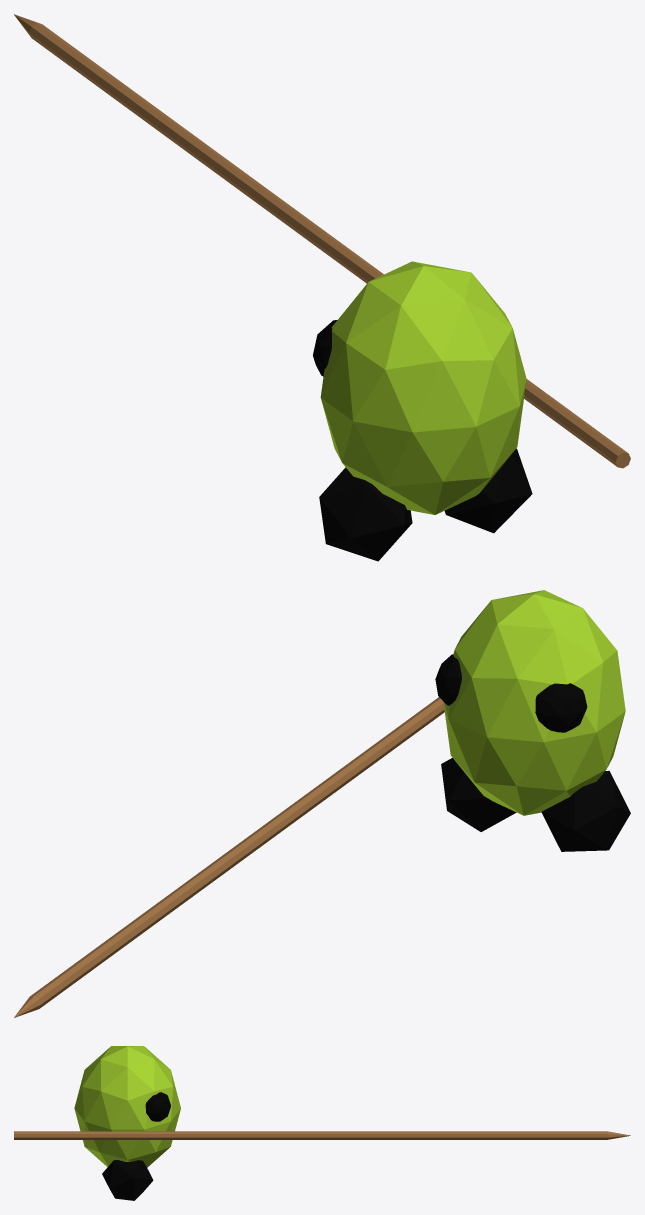
File: stab.f0011.glb
3 views of the same model, one above another, from view 1: azimuth 30°, elevation 25°; view 2: azimuth 150°, elevation 25°; view 3: azimuth 270°, elevation 25° (orthographic). The views are drawn at different scales.
Visible parts, largest first — view 1: Body.001; view 2: Body.001; view 3: Body.001.
Boxes of the visible parts, box(x1,y1,x2,y2) form: Body.001: box(14, 14, 630, 561); Body.001: box(14, 590, 630, 1017); Body.001: box(14, 1046, 630, 1200).
Size of the model in its own units: 2.17 by 2.85 by 11.56.
Materials: 1 (1 with a texture image).
